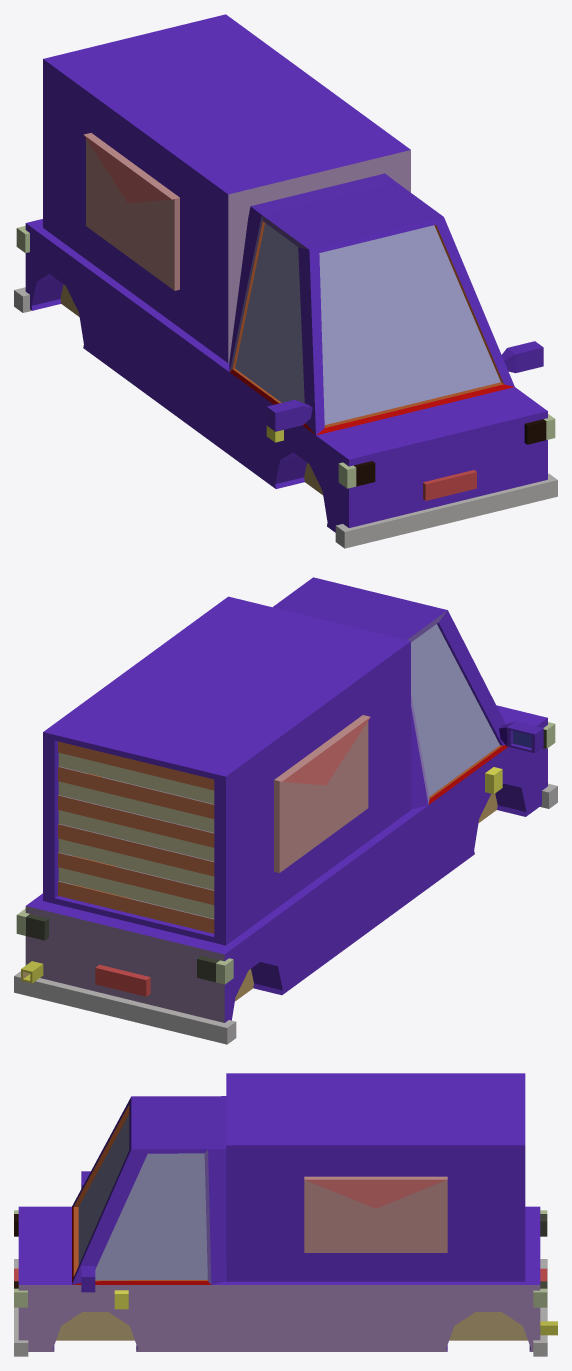
The model's file is vanBody.fbx.
3 views of the same model, one above another, from view 1: azimuth 30°, elevation 25°; view 2: azimuth 150°, elevation 25°; view 3: azimuth 270°, elevation 25° (orthographic). The views are drawn at different scales.
Visible parts, largest first — view 1: vanBody; view 2: vanBody; view 3: vanBody.
Part boxes in pixels (box(x1,y1,x2,y2)): vanBody: box(14, 14, 557, 548); vanBody: box(14, 577, 557, 1044); vanBody: box(14, 1073, 557, 1356).
Bounding box in the file's own units: 229 × 207 × 499.
